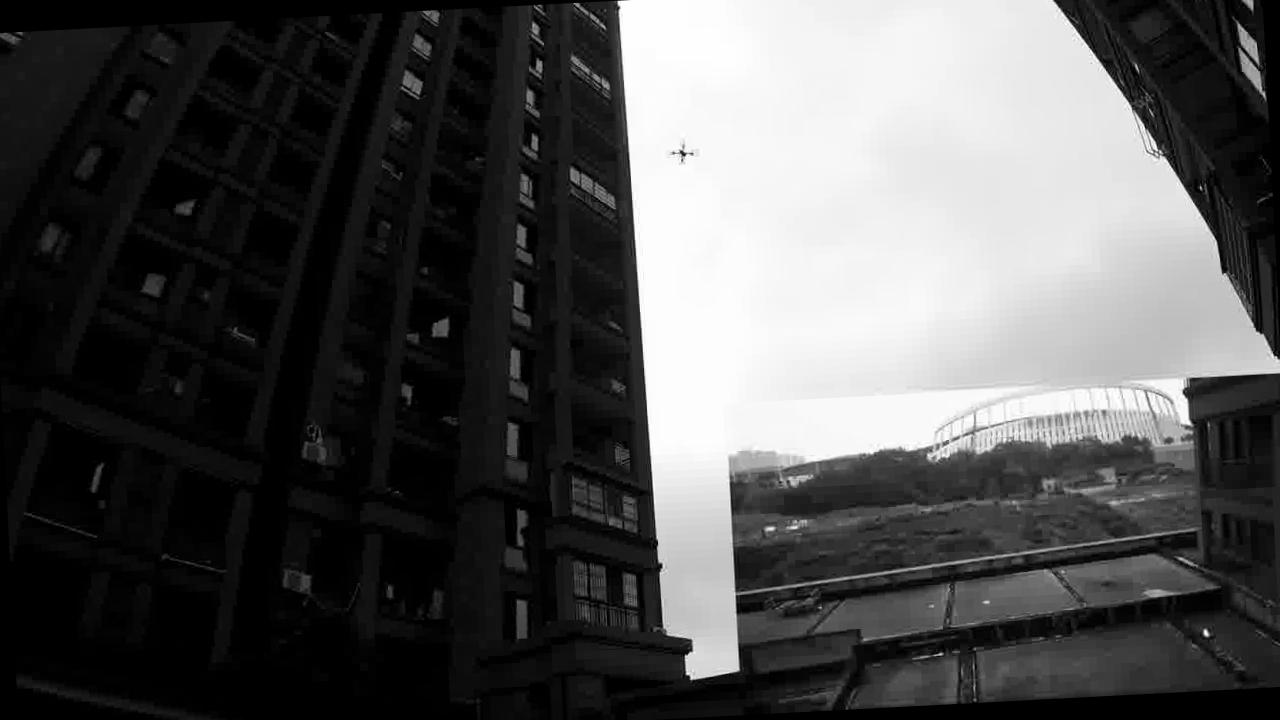drone: (662, 136, 698, 166)
